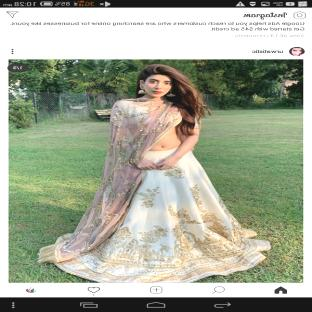Human: (38, 65, 271, 282)
